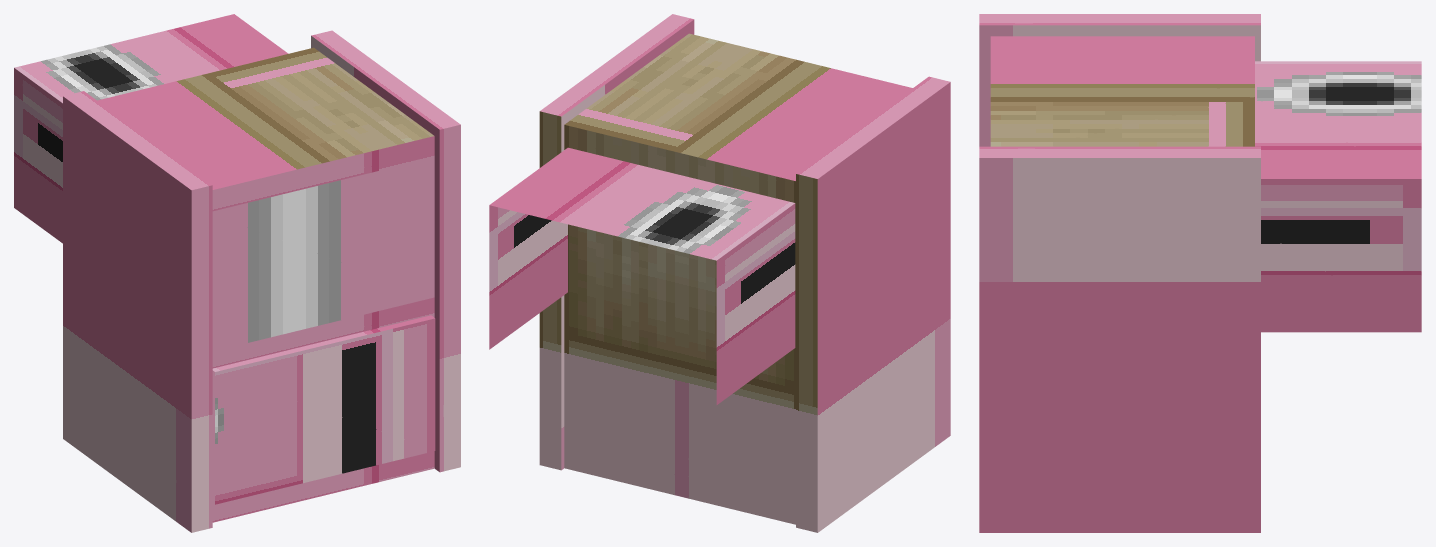
3 renders of one model, left to right at view 1: azimuth 30°, elevation 25°; view 2: azimuth 150°, elevation 25°; view 3: azimuth 270°, elevation 25°, orthographic. The views are drawn at different scales.
Visible parts, largest first — view 1: 3239IMSD01_25; view 2: 3239IMSD01_25; view 3: 3239IMSD01_25.
Boxes of the visible parts, box(x1,y1,x2,y2) form: 3239IMSD01_25: box(14, 14, 460, 532); 3239IMSD01_25: box(489, 14, 950, 532); 3239IMSD01_25: box(979, 14, 1421, 532).
Bounding box in the file's own units: 0.98 × 1.19 × 1.27.
Materials: 2 (2 with a texture image).
